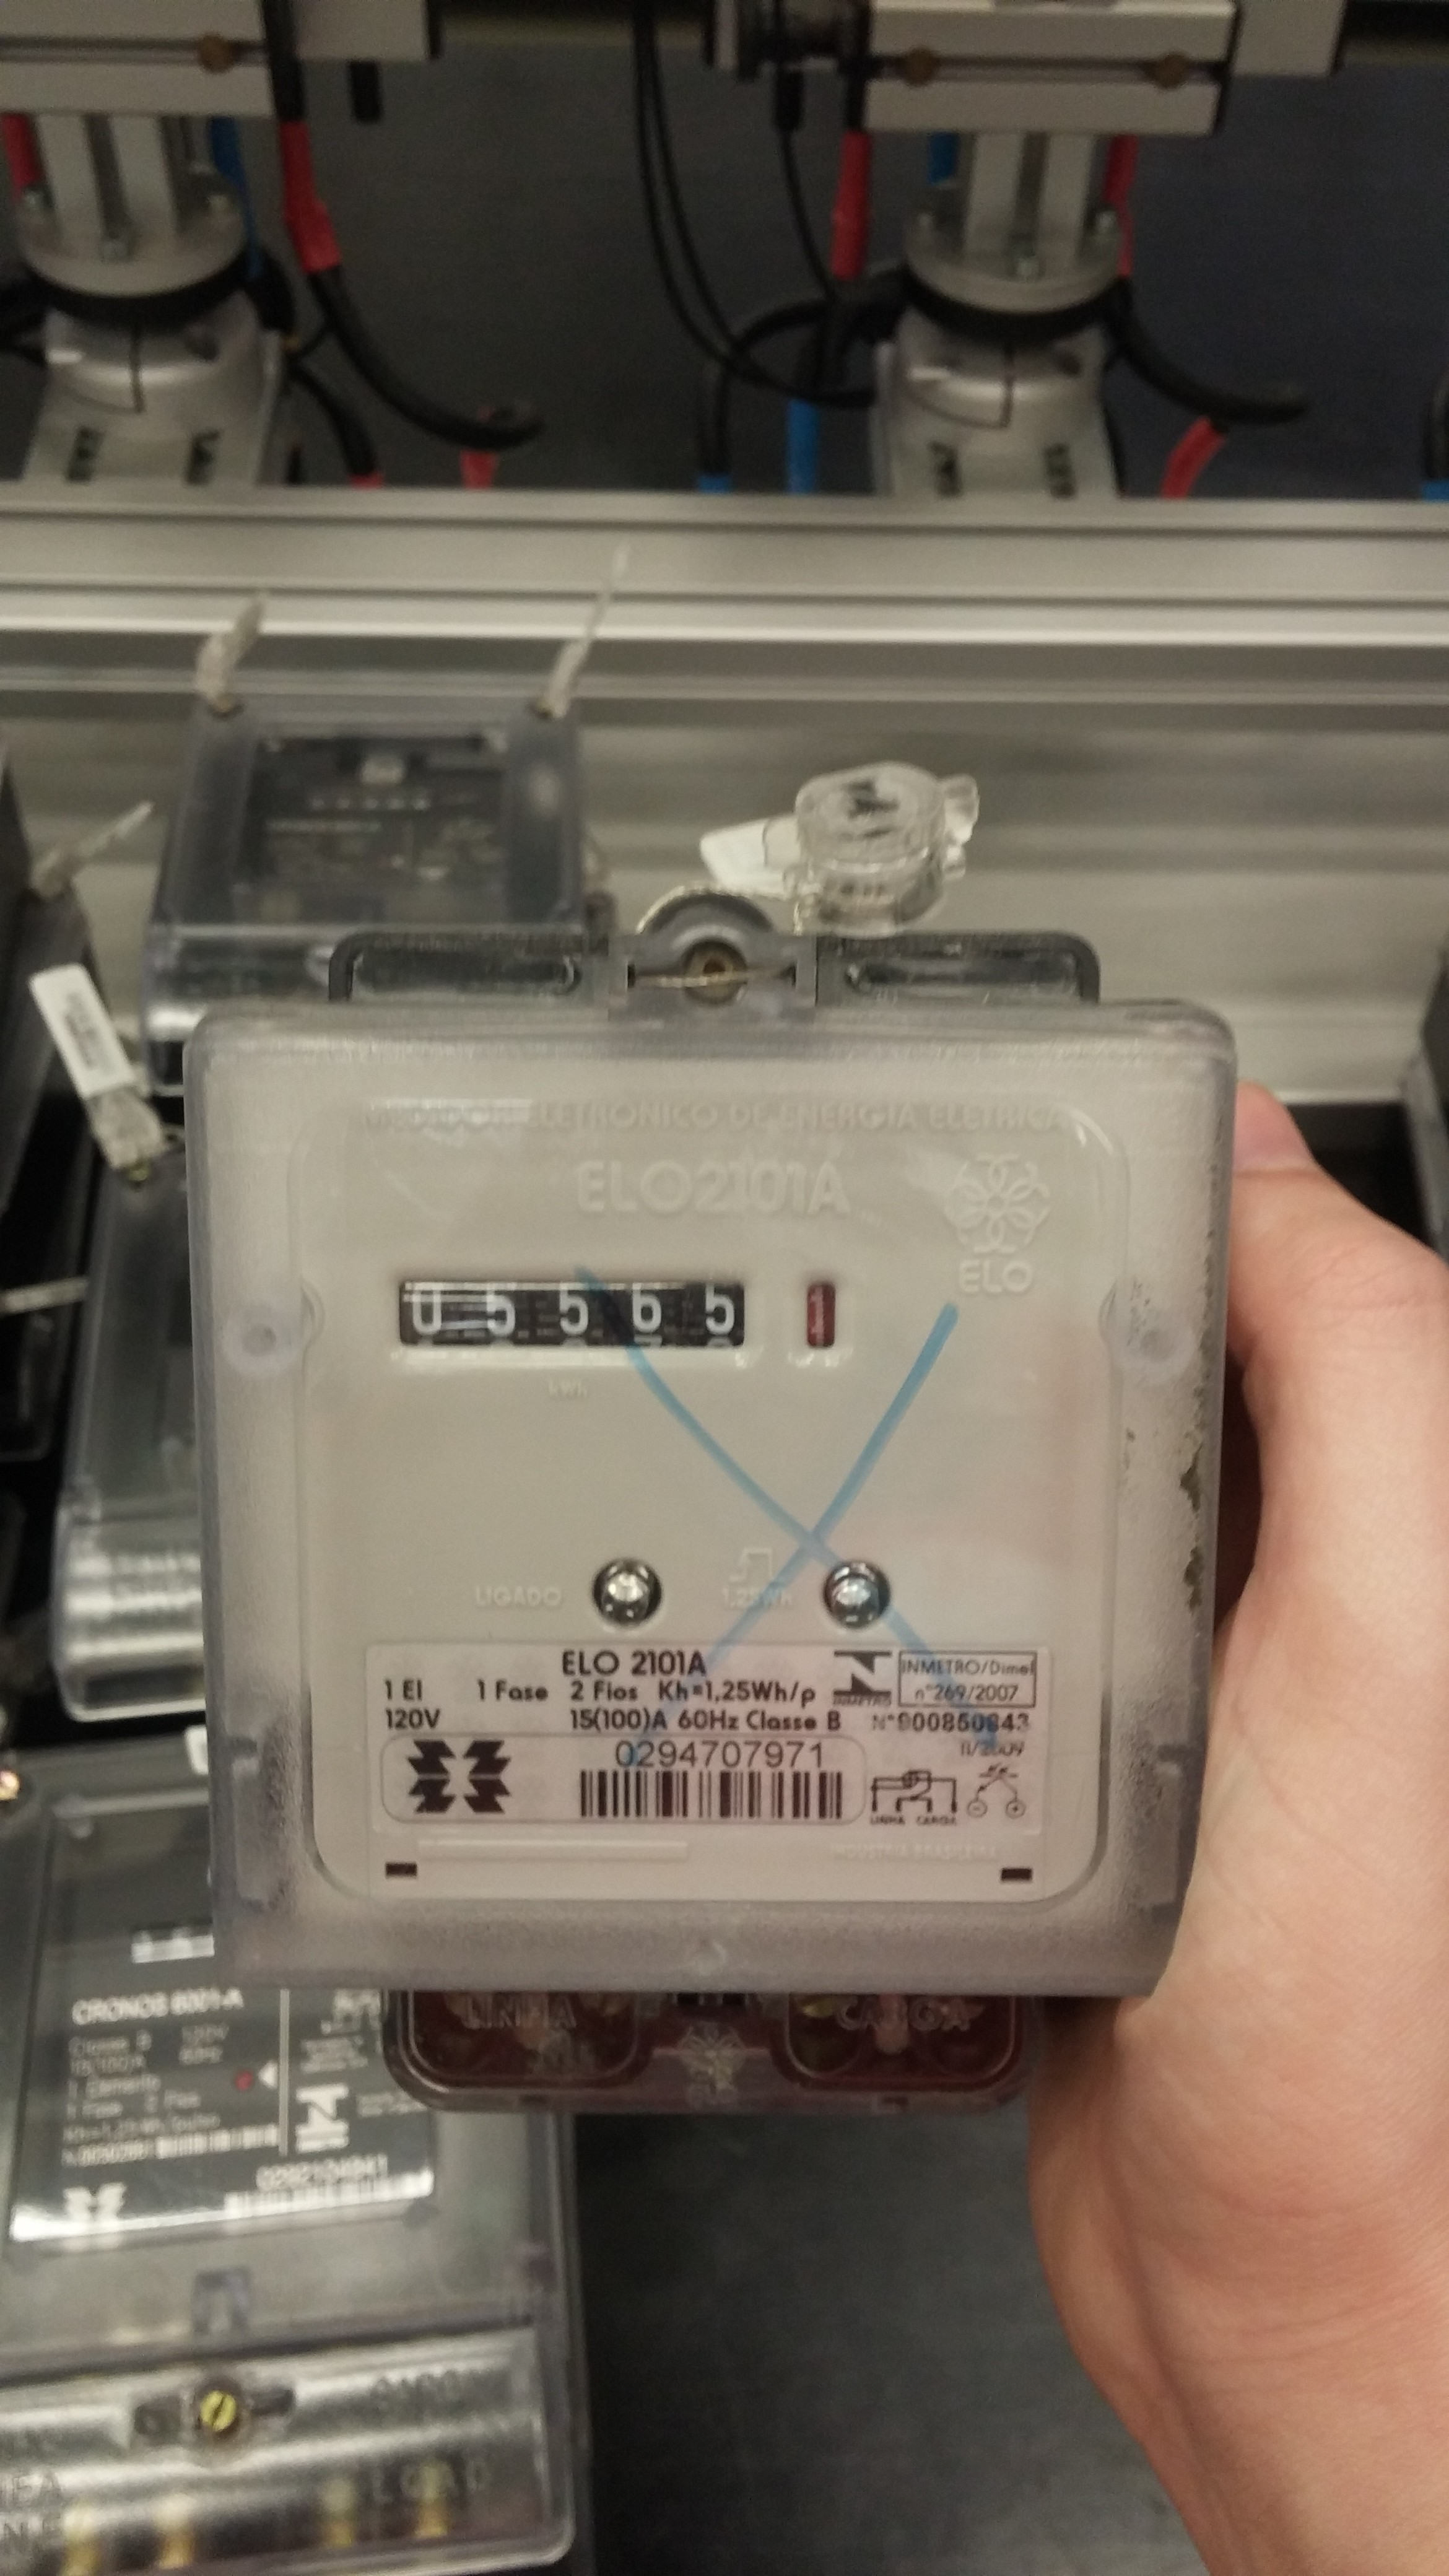counter2: (391, 1263, 759, 1362)
